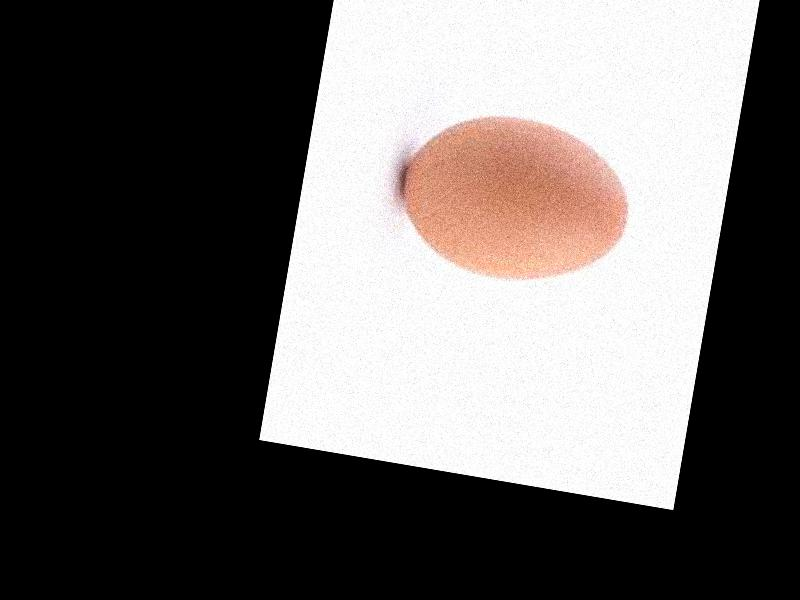Eggs: (392, 99, 643, 295)
